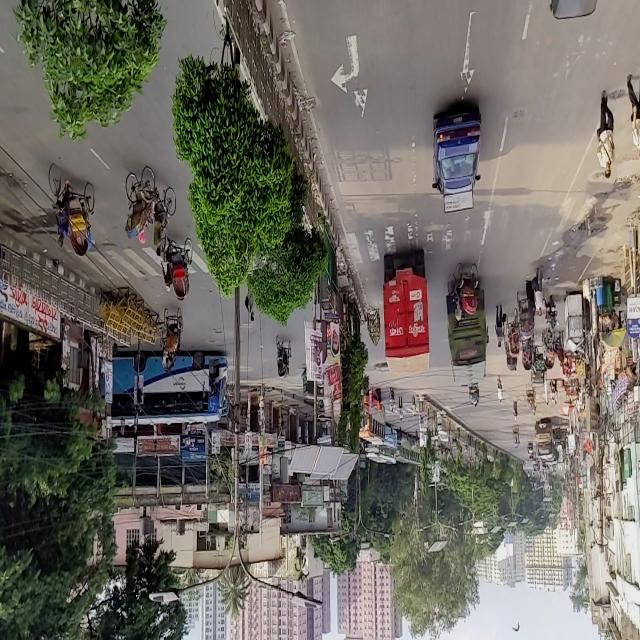blue: (431, 110, 480, 194)
